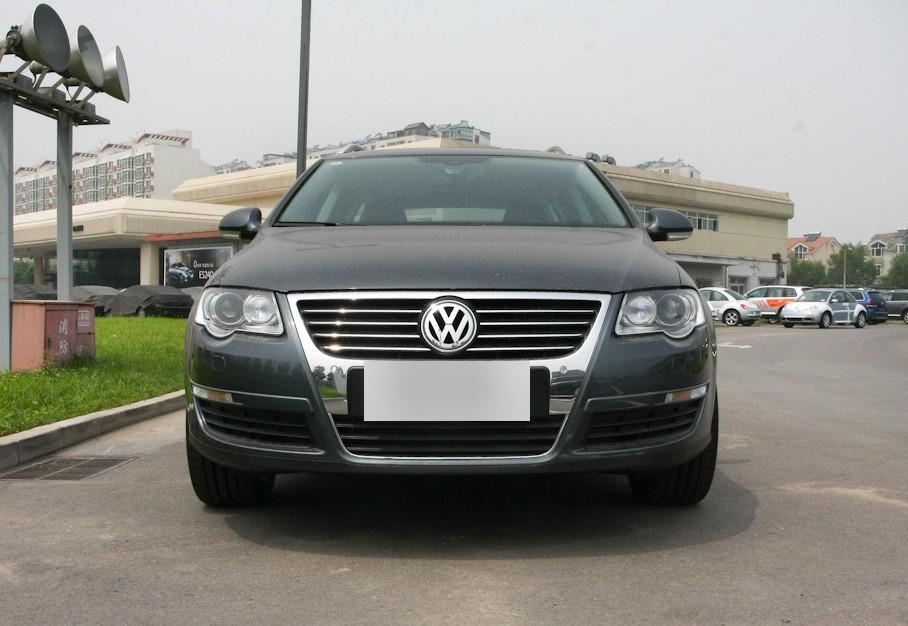Wagon: (185, 146, 720, 509)
